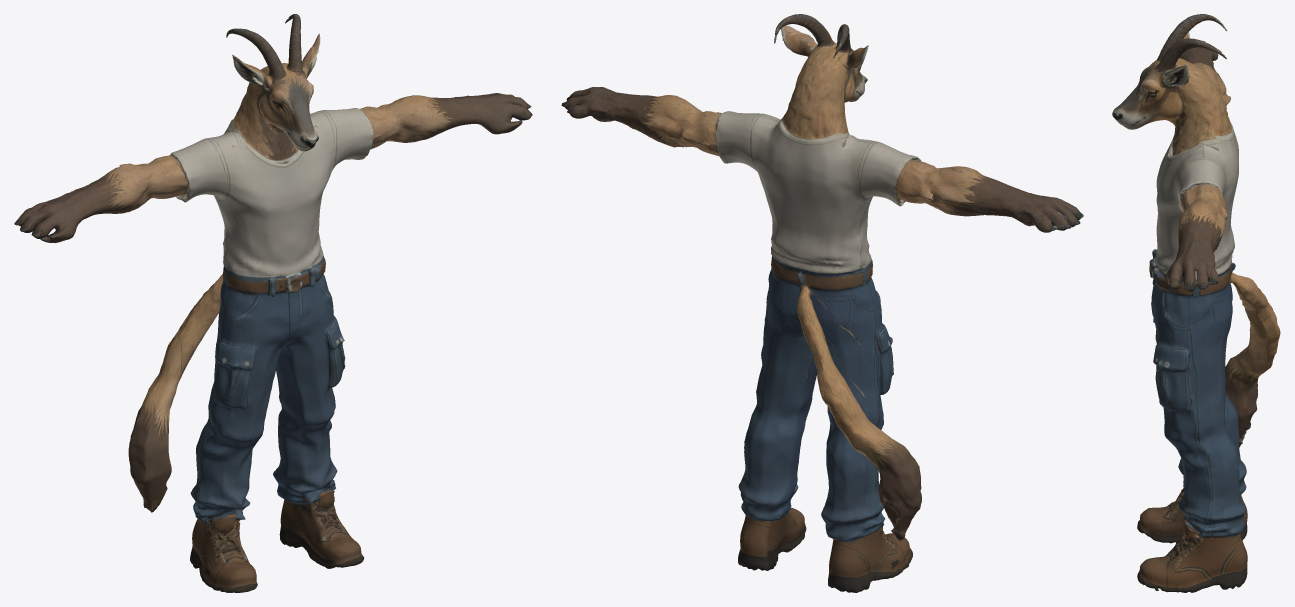
Rendered from 15_Goral.fbx.
3 renders of one model, left to right at view 1: azimuth 30°, elevation 25°; view 2: azimuth 150°, elevation 25°; view 3: azimuth 270°, elevation 25°, orthographic.
Visible parts, largest first — view 1: texture_mapping; view 2: texture_mapping; view 3: texture_mapping.
Part boxes in pixels (left/top/right/bottom): texture_mapping: left=14, top=14, right=532, bottom=592; texture_mapping: left=561, top=14, right=1083, bottom=592; texture_mapping: left=1112, top=14, right=1280, bottom=592.
Bounding box in the file's own units: 0.9854 × 0.9978 × 0.2847.
Materials: 1 (1 with a texture image).
